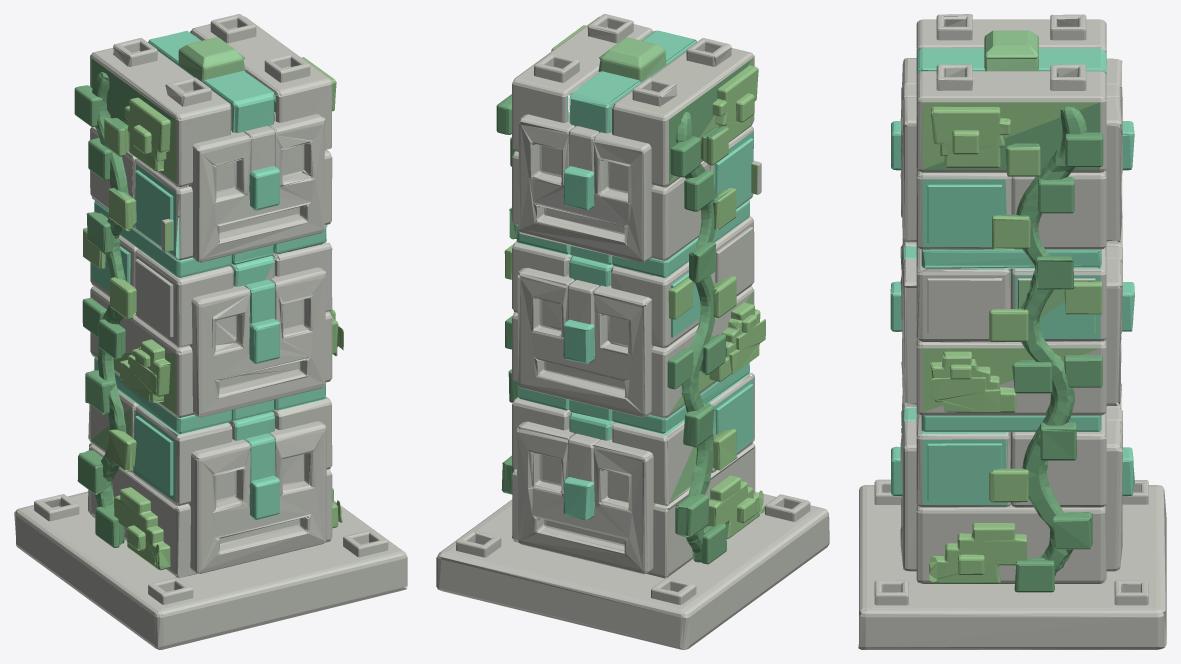
The model's file is Prop_Totem_Plastic.glb.
3 renders of one model, left to right at view 1: azimuth 30°, elevation 25°; view 2: azimuth 150°, elevation 25°; view 3: azimuth 270°, elevation 25°, orthographic. The views are drawn at different scales.
Visible parts, largest first — view 1: Stone, Jade, Moss, DarkGreen, Green; view 2: Stone, Jade, DarkGreen, Moss, Green; view 3: Stone, Jade, Moss, DarkGreen, Green.
Part boxes in pixels (bbox=[...]): Stone: bbox=[14, 14, 407, 649]; Jade: bbox=[91, 30, 327, 519]; Moss: bbox=[83, 57, 343, 570]; DarkGreen: bbox=[74, 58, 292, 547]; Green: bbox=[91, 37, 245, 450]; Stone: bbox=[436, 14, 829, 649]; Jade: bbox=[516, 30, 753, 520]; DarkGreen: bbox=[496, 58, 757, 564]; Moss: bbox=[504, 25, 765, 538]; Green: bbox=[598, 37, 755, 501]; Stone: bbox=[858, 14, 1166, 649]; Jade: bbox=[890, 48, 1134, 505]; Moss: bbox=[922, 102, 1102, 583]; DarkGreen: bbox=[923, 102, 1103, 592]; Green: bbox=[984, 30, 1095, 340].
Bounding box in the file's own units: 0.48 × 0.9507 × 0.4834.
